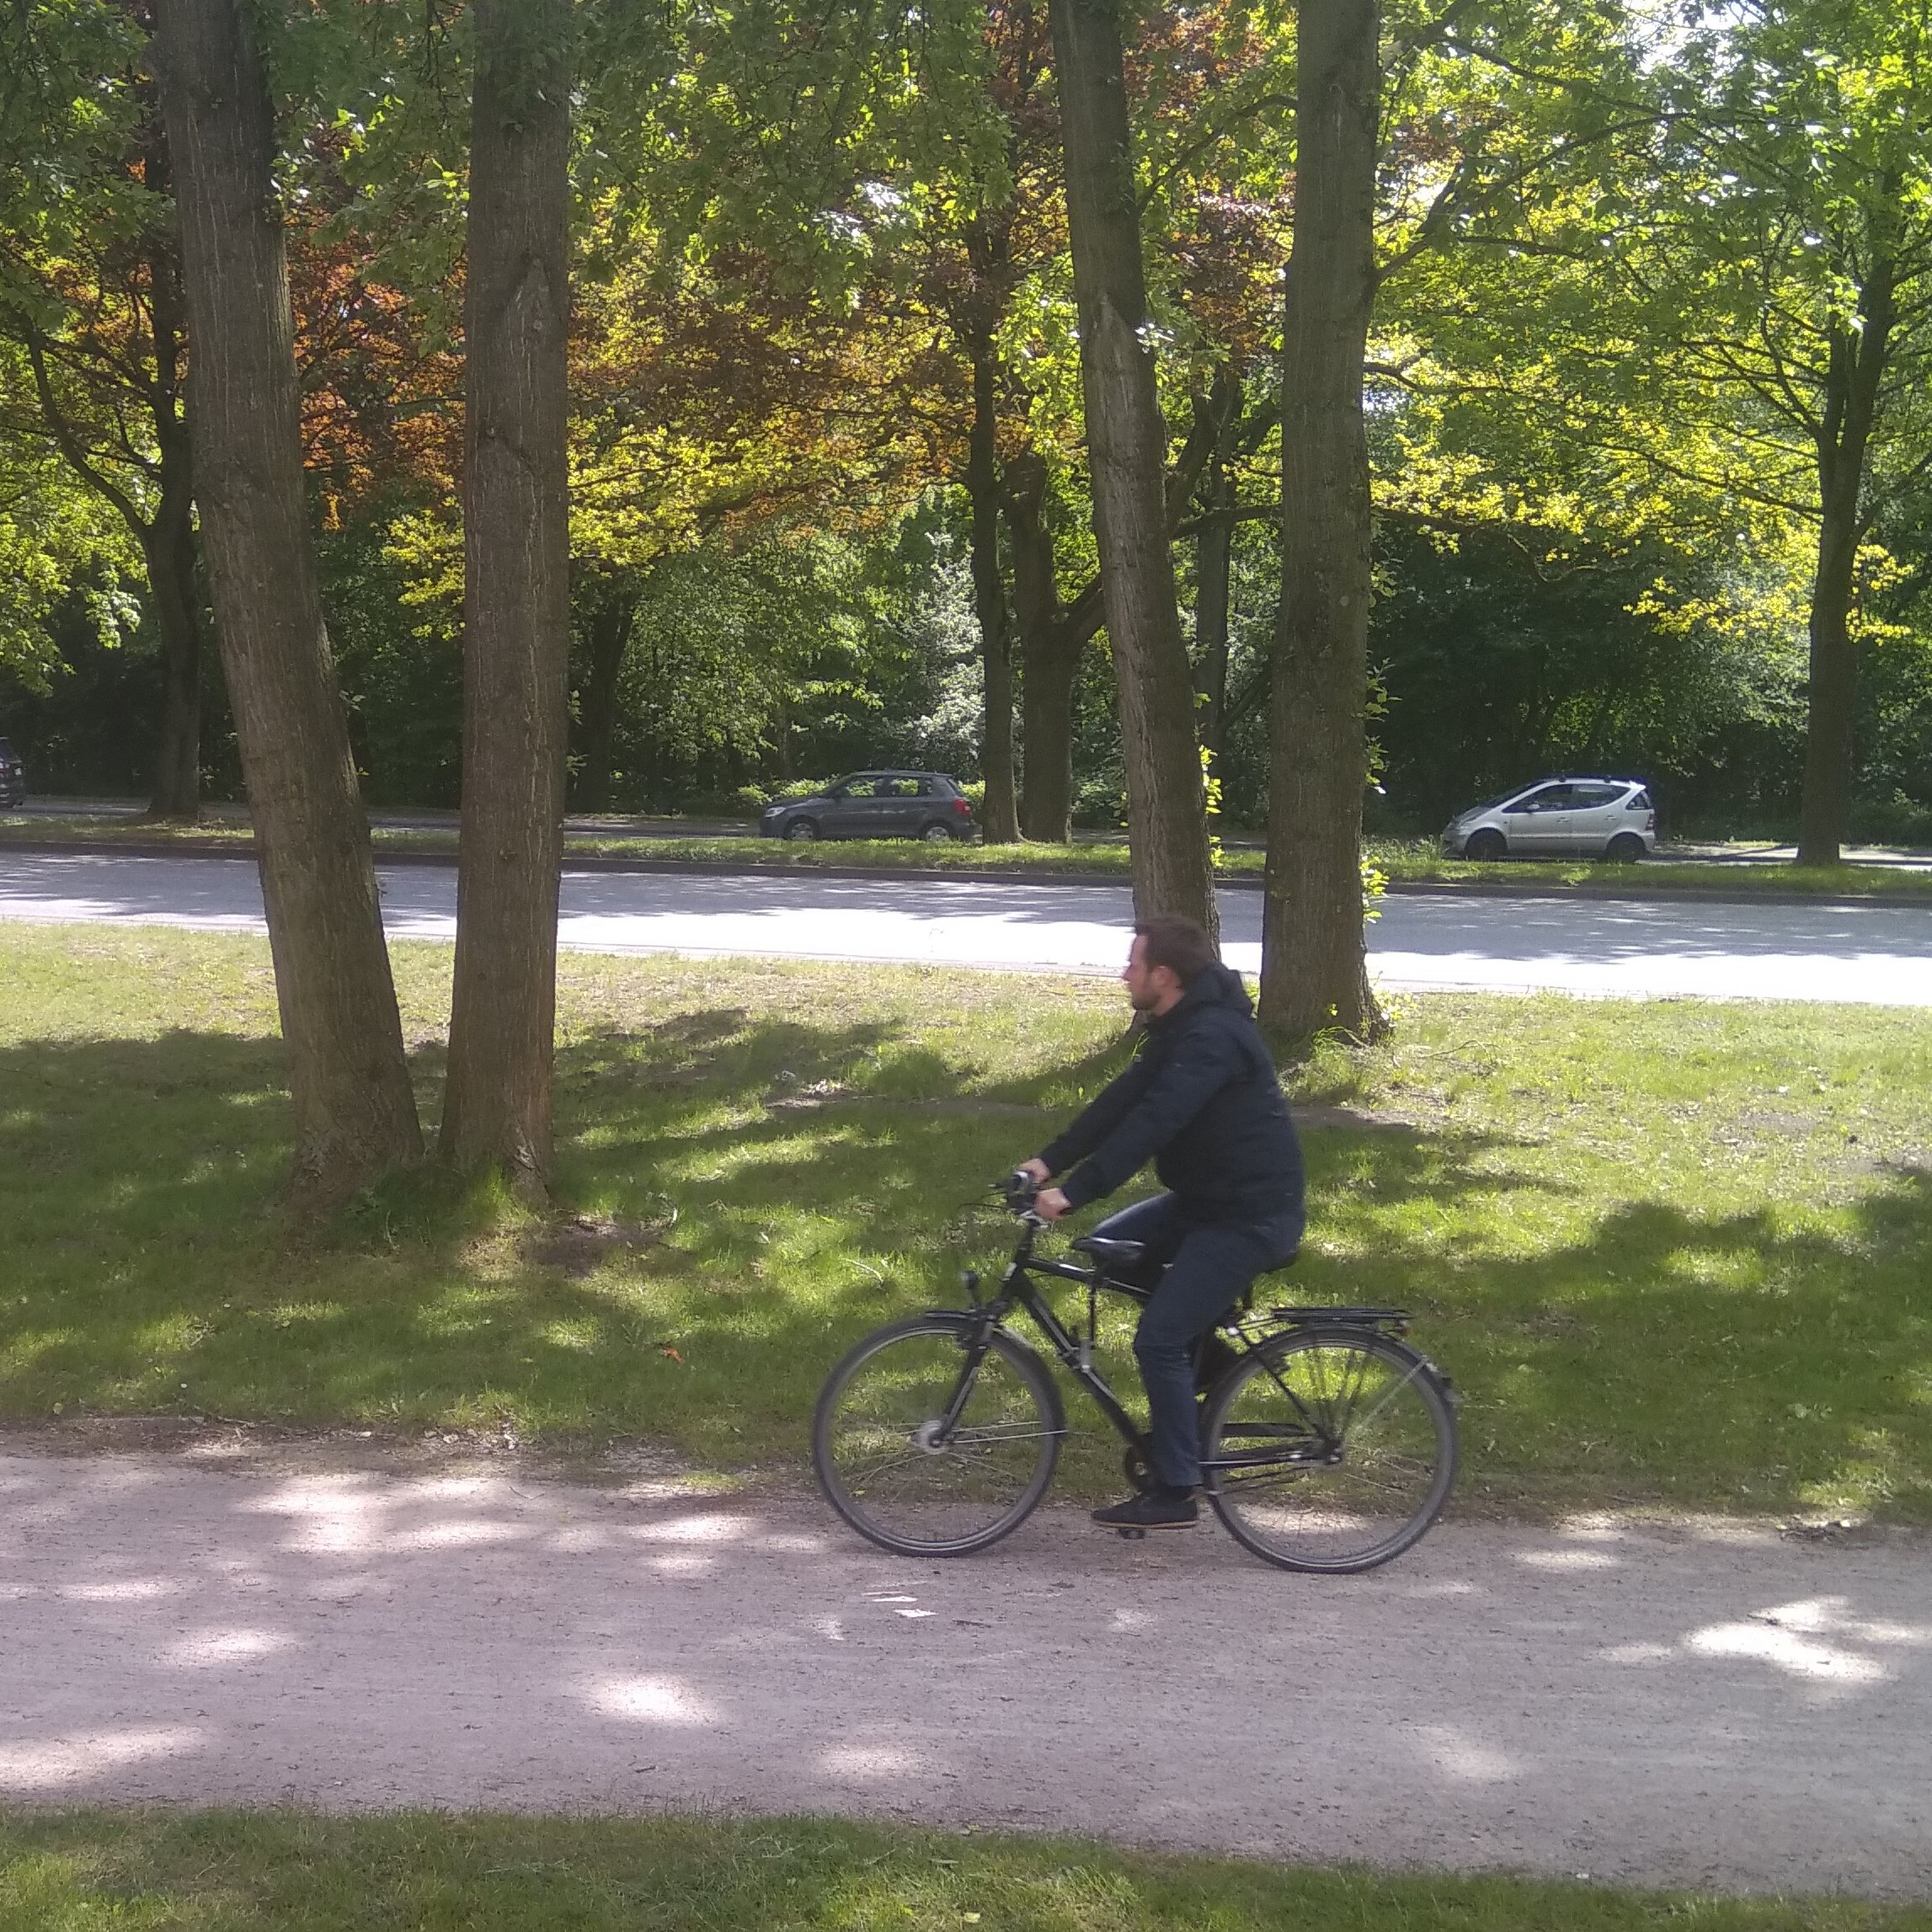bike_left: (798, 911, 1472, 1582)
